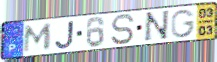6: (85, 16, 106, 50)
G: (170, 9, 197, 39)
J: (53, 20, 75, 50)
M: (22, 23, 54, 54)
N: (142, 9, 171, 44)
S: (110, 13, 136, 46)
